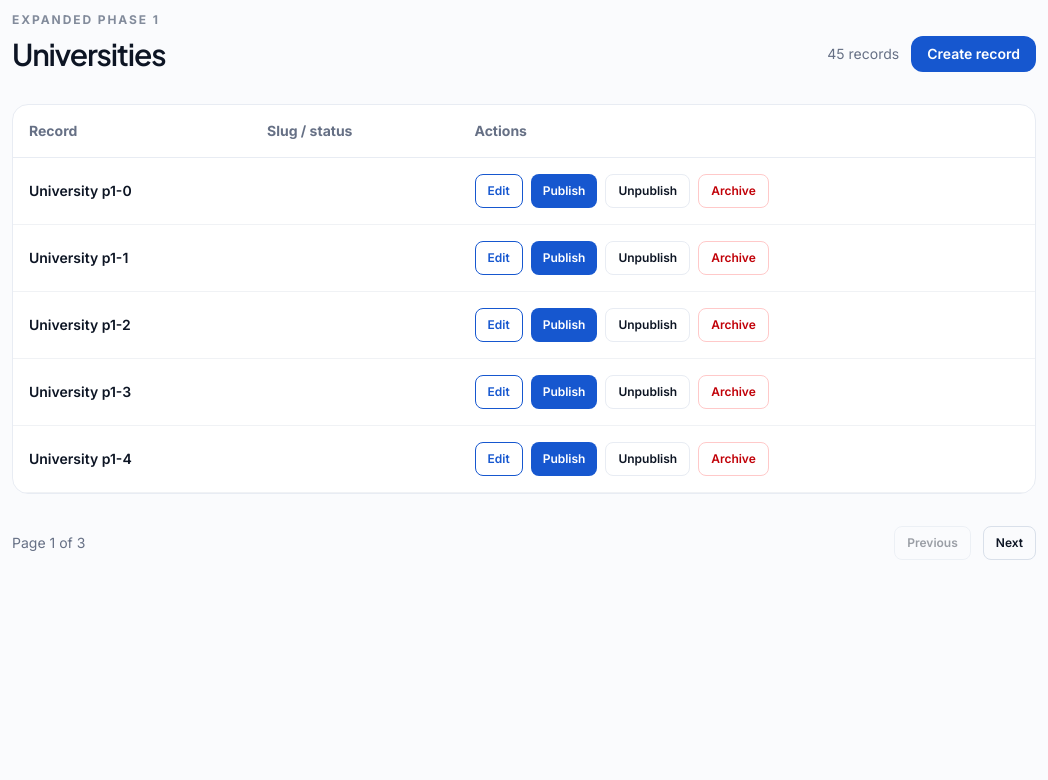
it: Phase1Manager pagination › advances to the next page and requests it from the API
The image size is (1048, 780).
expect the text "University p1-0" is shown: met, box [13,158,251,224]
Click the button "Next" at (1009, 543), box [983,526,1036,560]
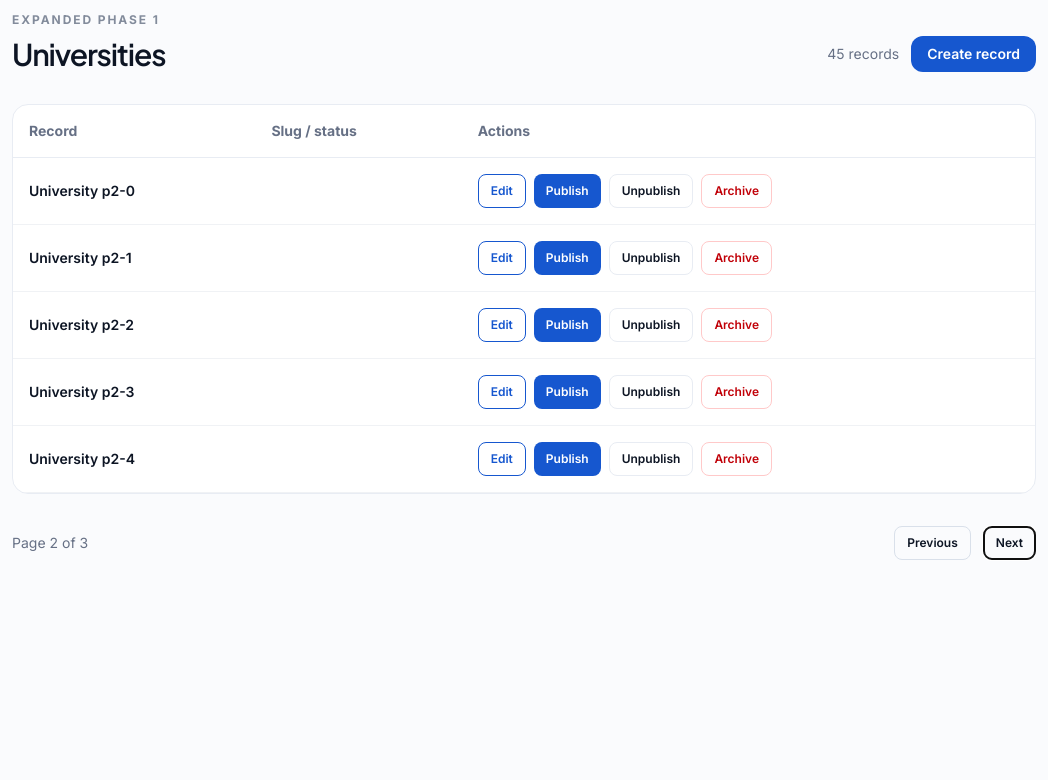
expect the text "University p2-0" is shown: met, box [13,158,255,224]
expect the text "Page 2 of 3" is shown: met, box [12,533,88,553]
expect the button "Previous" is enabled: met, box [894,526,971,560]
